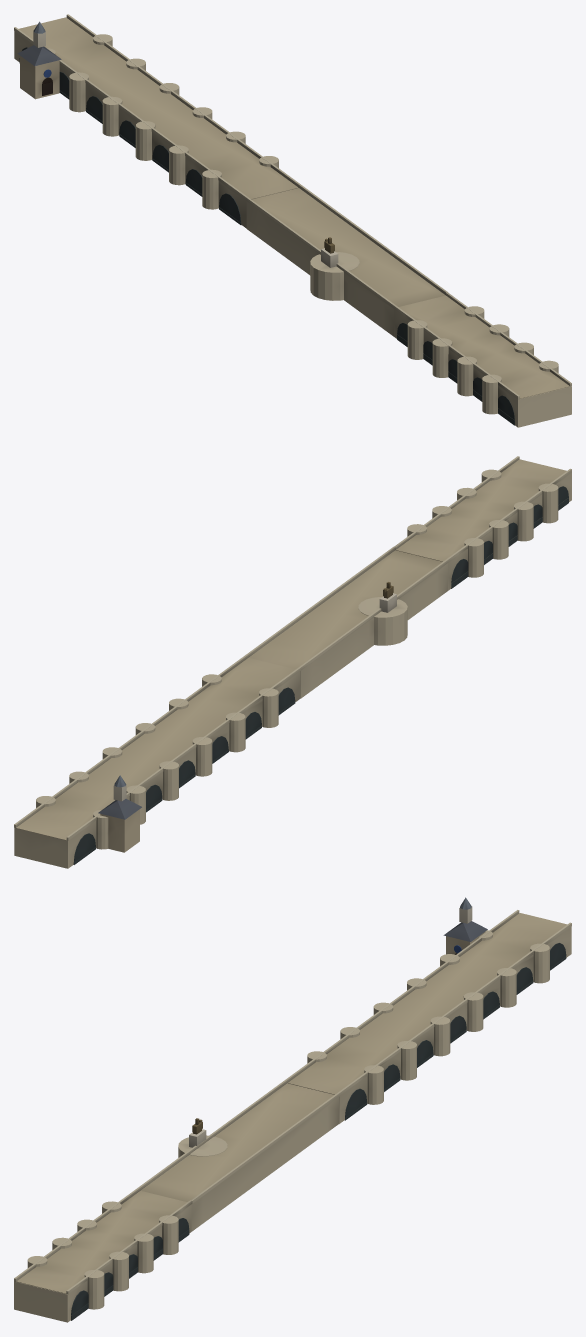
File: pont-neuf.glb
3 views of the same model, one above another, from view 1: azimuth 30°, elevation 25°; view 2: azimuth 150°, elevation 25°; view 3: azimuth 330°, elevation 25° (orthographic).
Parts seen in each view (by area): view 1: p0_arches, p1_statue; view 2: p0_arches, p1_statue; view 3: p0_arches, p1_statue.
Part boxes in pixels (x1,y1,x2,y2): p0_arches: [14, 14, 571, 427]; p1_statue: [17, 21, 359, 300]; p0_arches: [14, 456, 571, 868]; p1_statue: [98, 582, 407, 852]; p0_arches: [14, 910, 571, 1322]; p1_statue: [178, 897, 487, 1157].
Bounding box in the file's own units: 33.91 × 24.63 × 325.
